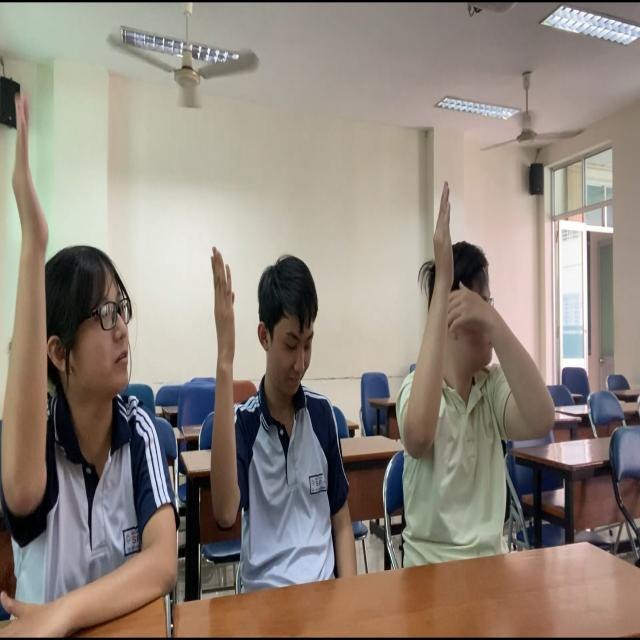raise_hand: (1, 62, 188, 640), (185, 157, 404, 640), (405, 143, 562, 604)
